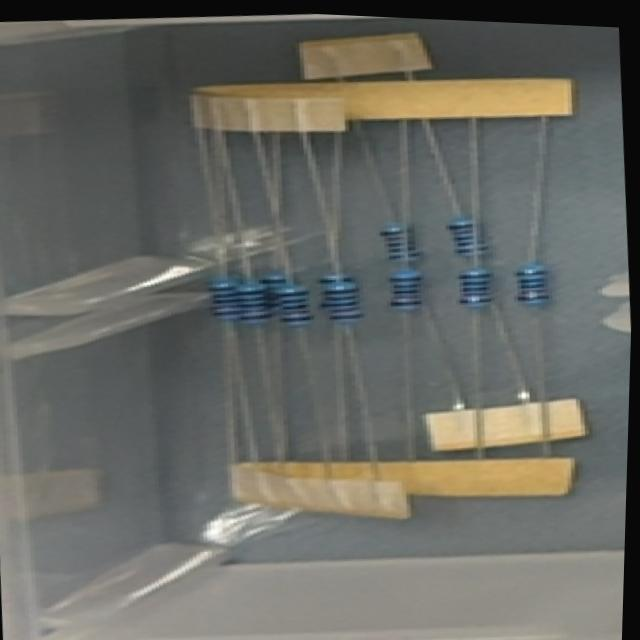Resistor: (312, 270, 365, 312), (446, 214, 493, 260), (378, 219, 423, 265), (513, 263, 555, 309), (324, 282, 366, 325), (275, 284, 313, 329), (385, 268, 423, 313), (257, 269, 290, 319), (204, 277, 240, 322), (233, 282, 272, 323), (456, 269, 491, 311)
